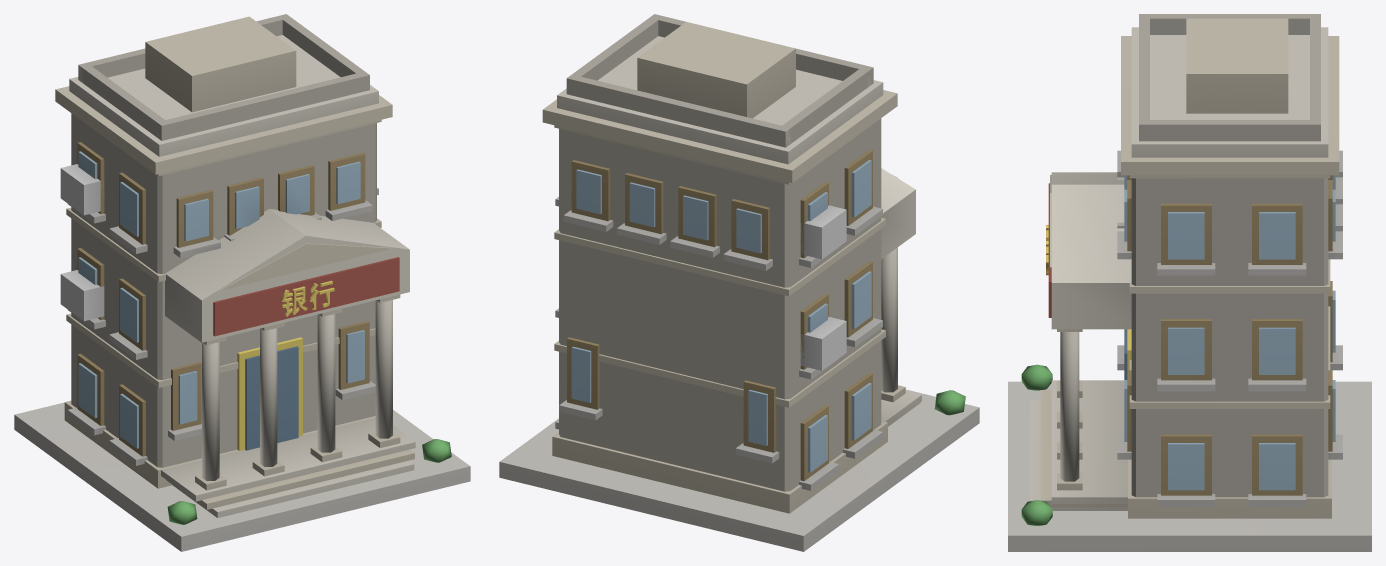
Rendered from bank.glb.
3 renders of one model, left to right at view 1: azimuth 30°, elevation 25°; view 2: azimuth 150°, elevation 25°; view 3: azimuth 270°, elevation 25°, orthographic. The views are drawn at different scales.
Parts seen in each view (by area): view 1: bank; view 2: bank; view 3: bank.
Boxes of the visible parts, x1,y1,x2,y2 form: bank: [14, 14, 470, 551]; bank: [499, 14, 979, 551]; bank: [1008, 14, 1371, 551].
Bounding box in the file's own units: 1 × 1.3 × 1.
